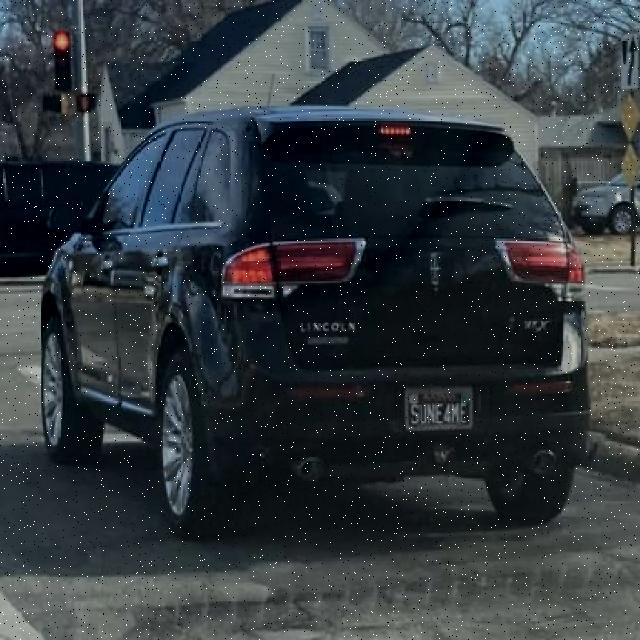licenseplate: (404, 385, 475, 433)
